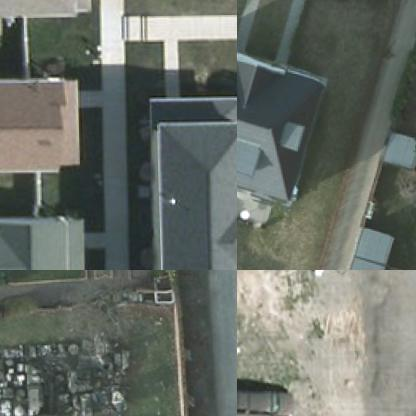car: (237, 386, 289, 415)
